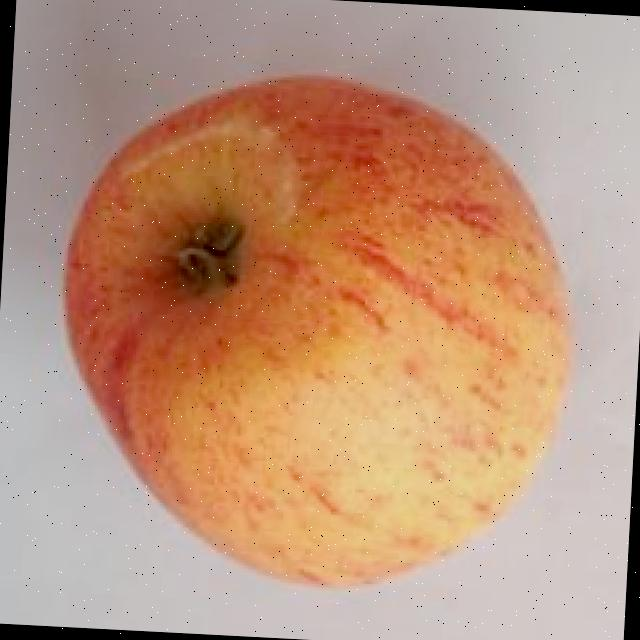apple: (22, 45, 610, 620)
